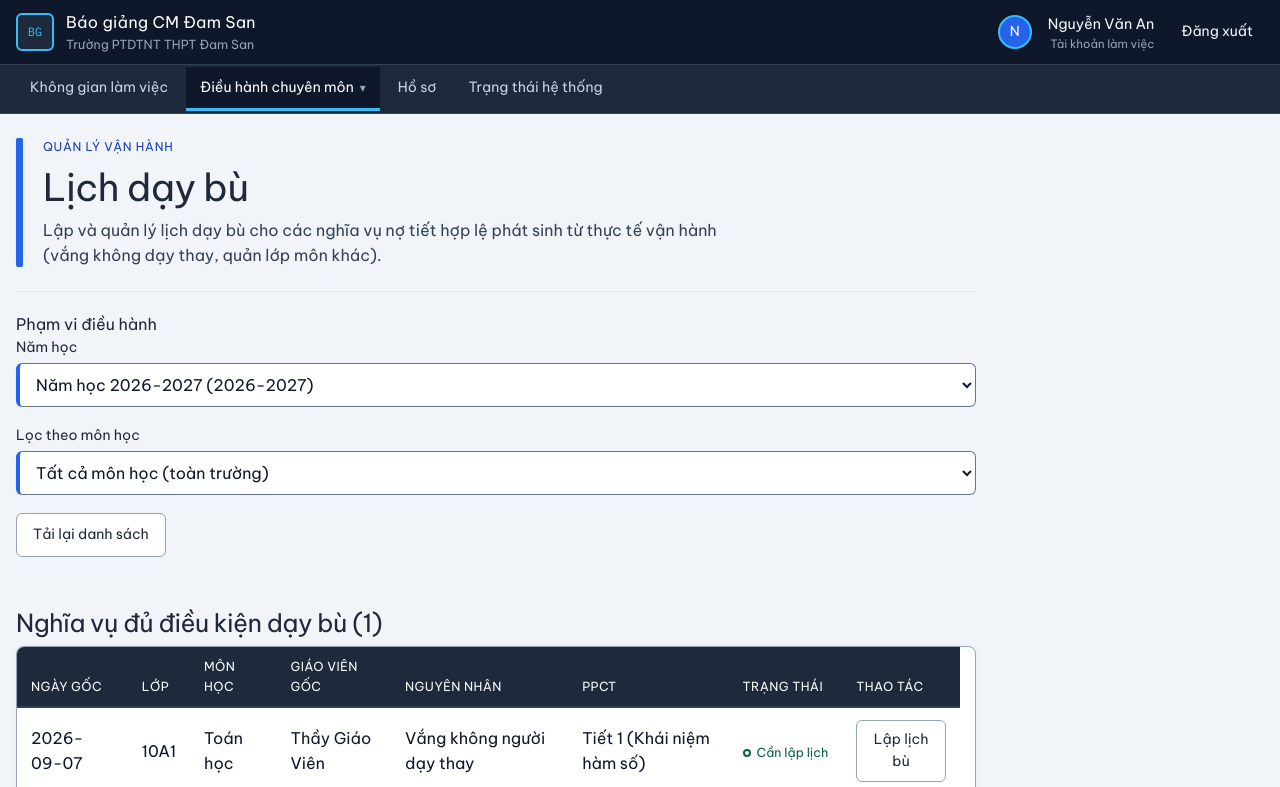
Test: MakeupSchedulingPage › AR-04: Candidate/schedule decoupling and fail-closed reload › D2: initial PASS -> selected candidate -> candidate request 503 => old candidate becomes non-actionable
Note: Select candidate
Click the button "Lập lịch bù" at (901, 751), box [856,720,946,782]
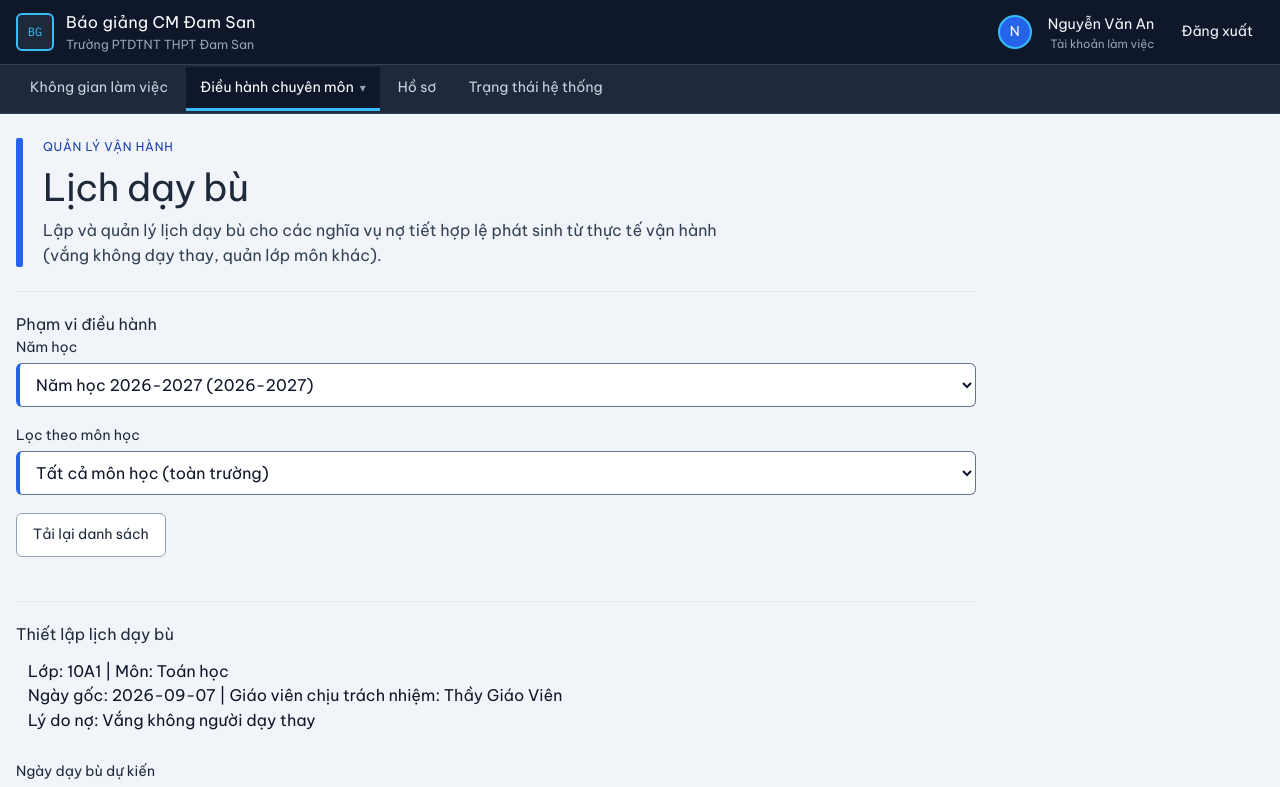
Check: the text "Thiết lập lịch dạy bù" is shown, box [16,624,174,644]
Click the button "Tải lại danh sách" at (91, 535), box [16,513,166,557]
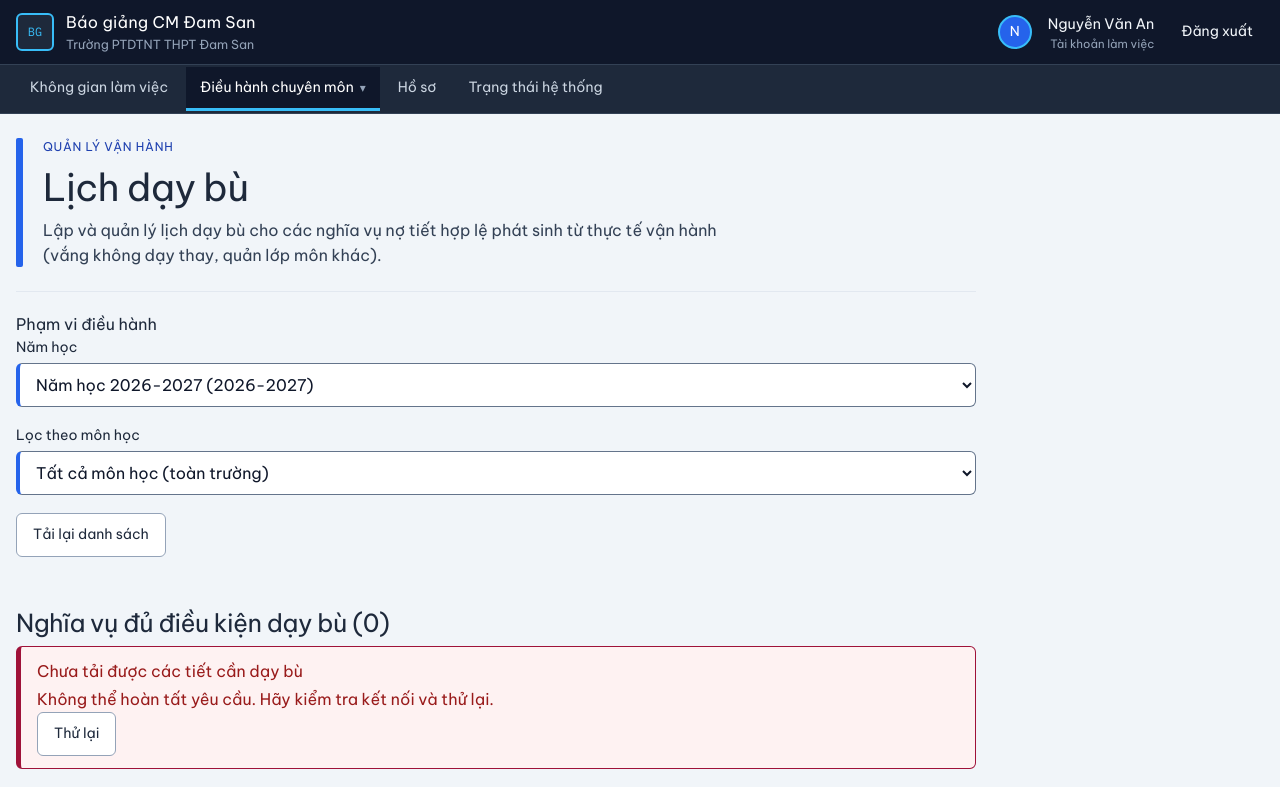
Check: the text "Chưa tải được các tiết cần dạy bù" is shown, box [37,662,303,682]
Check: the text "Thiết lập lịch dạy bù" is gone
